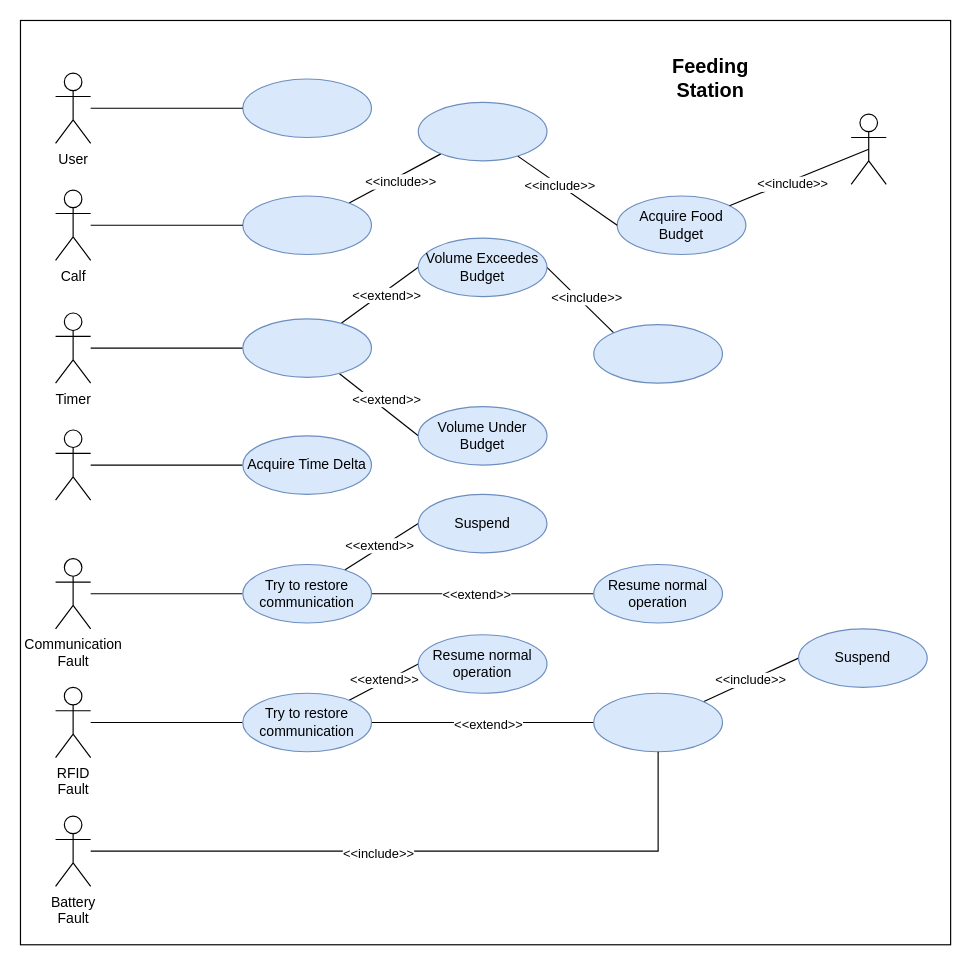
The diagram is 971 pixels wide and 965 high, and some of its shapes have lost their labels. Each missing label, with the centre of its shape:
"Aproaches Feeding Station" belongs at [306,224].
"Calculate consumed volume" belongs at [306,347].
"Close Solenoid Valve" belongs at [657,353].
"Control Box" belongs at [868,148].
"Flow Meter Interrupt" belongs at [72,464].
"Power On" belongs at [306,107].
"Read RFID Tag" belongs at [482,131].
"Send Warning" belongs at [657,722].
